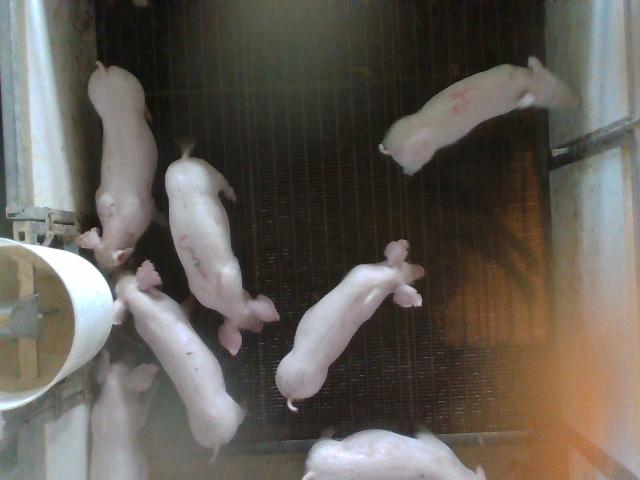pig-3: (165, 140, 279, 354)
pig-4: (379, 58, 578, 174)
